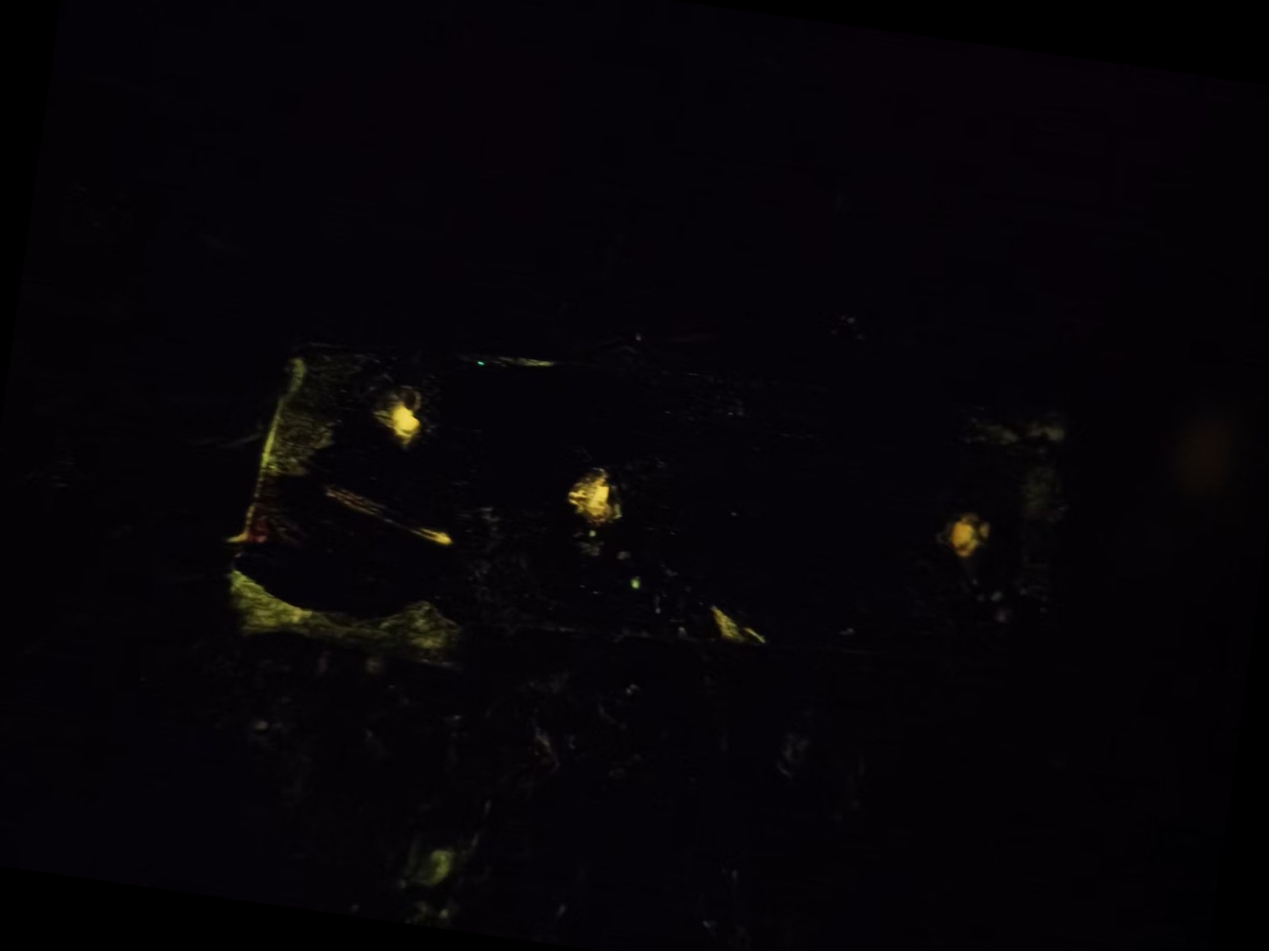Crater: (534, 456, 662, 554), (342, 379, 454, 474), (912, 494, 1008, 583)
